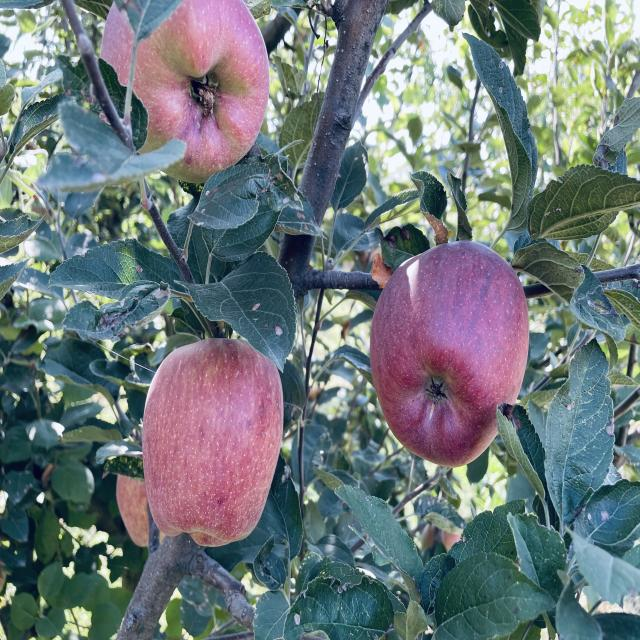Apple: (370, 240, 529, 467), (142, 338, 284, 547), (134, 0, 270, 183), (100, 5, 132, 83), (116, 475, 149, 547)
